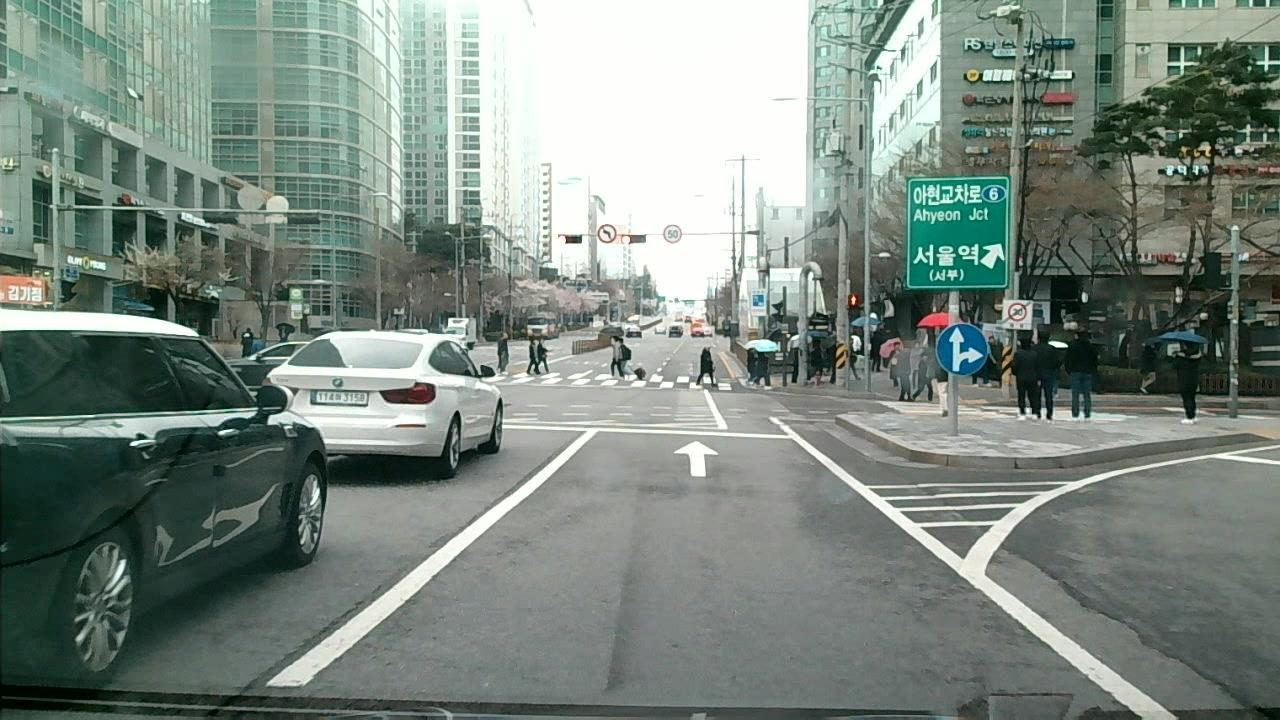vcrack: (1009, 554, 1257, 709), (209, 586, 387, 713)
